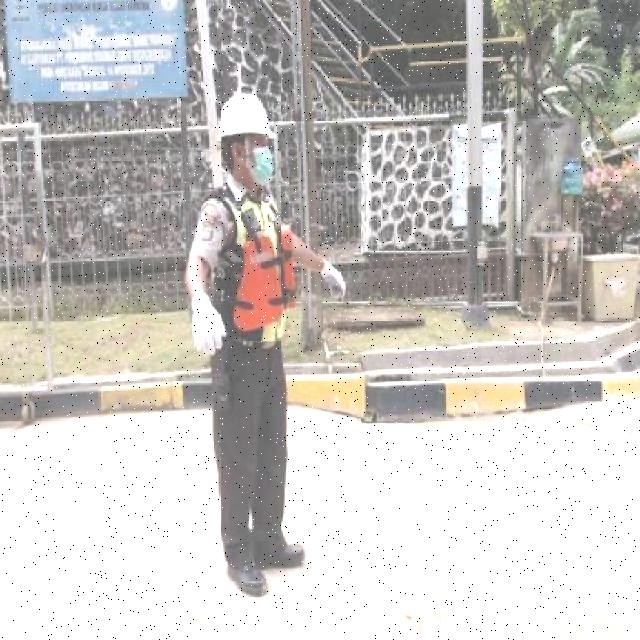Boots: (258, 528, 308, 576), (223, 552, 271, 602)
Gloves: (188, 292, 228, 363), (317, 256, 348, 309)
Helmet: (216, 90, 276, 144)
Mask: (232, 224, 300, 332)
